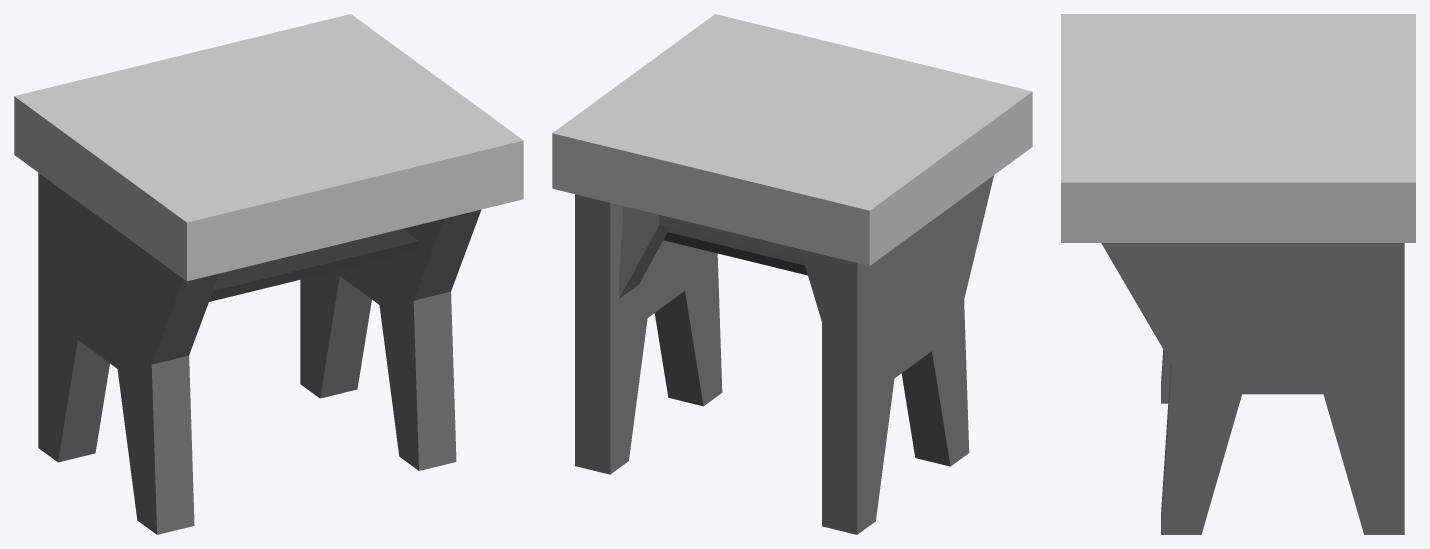
The model's file is Desk.fbx.
3 renders of one model, left to right at view 1: azimuth 30°, elevation 25°; view 2: azimuth 150°, elevation 25°; view 3: azimuth 270°, elevation 25°, orthographic. The views are drawn at different scales.
Visible parts, largest first — view 1: cuboid_1, cuboid_2, cuboid_3, cuboid_4; view 2: cuboid_1, cuboid_2, cuboid_3, cuboid, cuboid_4; view 3: cuboid_1, cuboid_3, cuboid_2.
Part boxes in pixels (box(x1,y1,x2,y2)): cuboid_1: box(14, 14, 523, 281); cuboid_2: box(38, 173, 219, 534); cuboid_3: box(300, 209, 481, 470); cuboid_4: box(209, 229, 418, 301); cuboid_1: box(552, 14, 1032, 265); cuboid_2: box(822, 175, 993, 534); cuboid_3: box(575, 194, 722, 474); cuboid: box(619, 206, 821, 321); cuboid_4: box(663, 228, 807, 275); cuboid_1: box(1061, 14, 1415, 242); cuboid_3: box(1101, 243, 1404, 534); cuboid_2: box(1161, 350, 1170, 403).
Size of the model in its own units: 112 by 112 by 100.
Materials: 4 (4 with a texture image).
